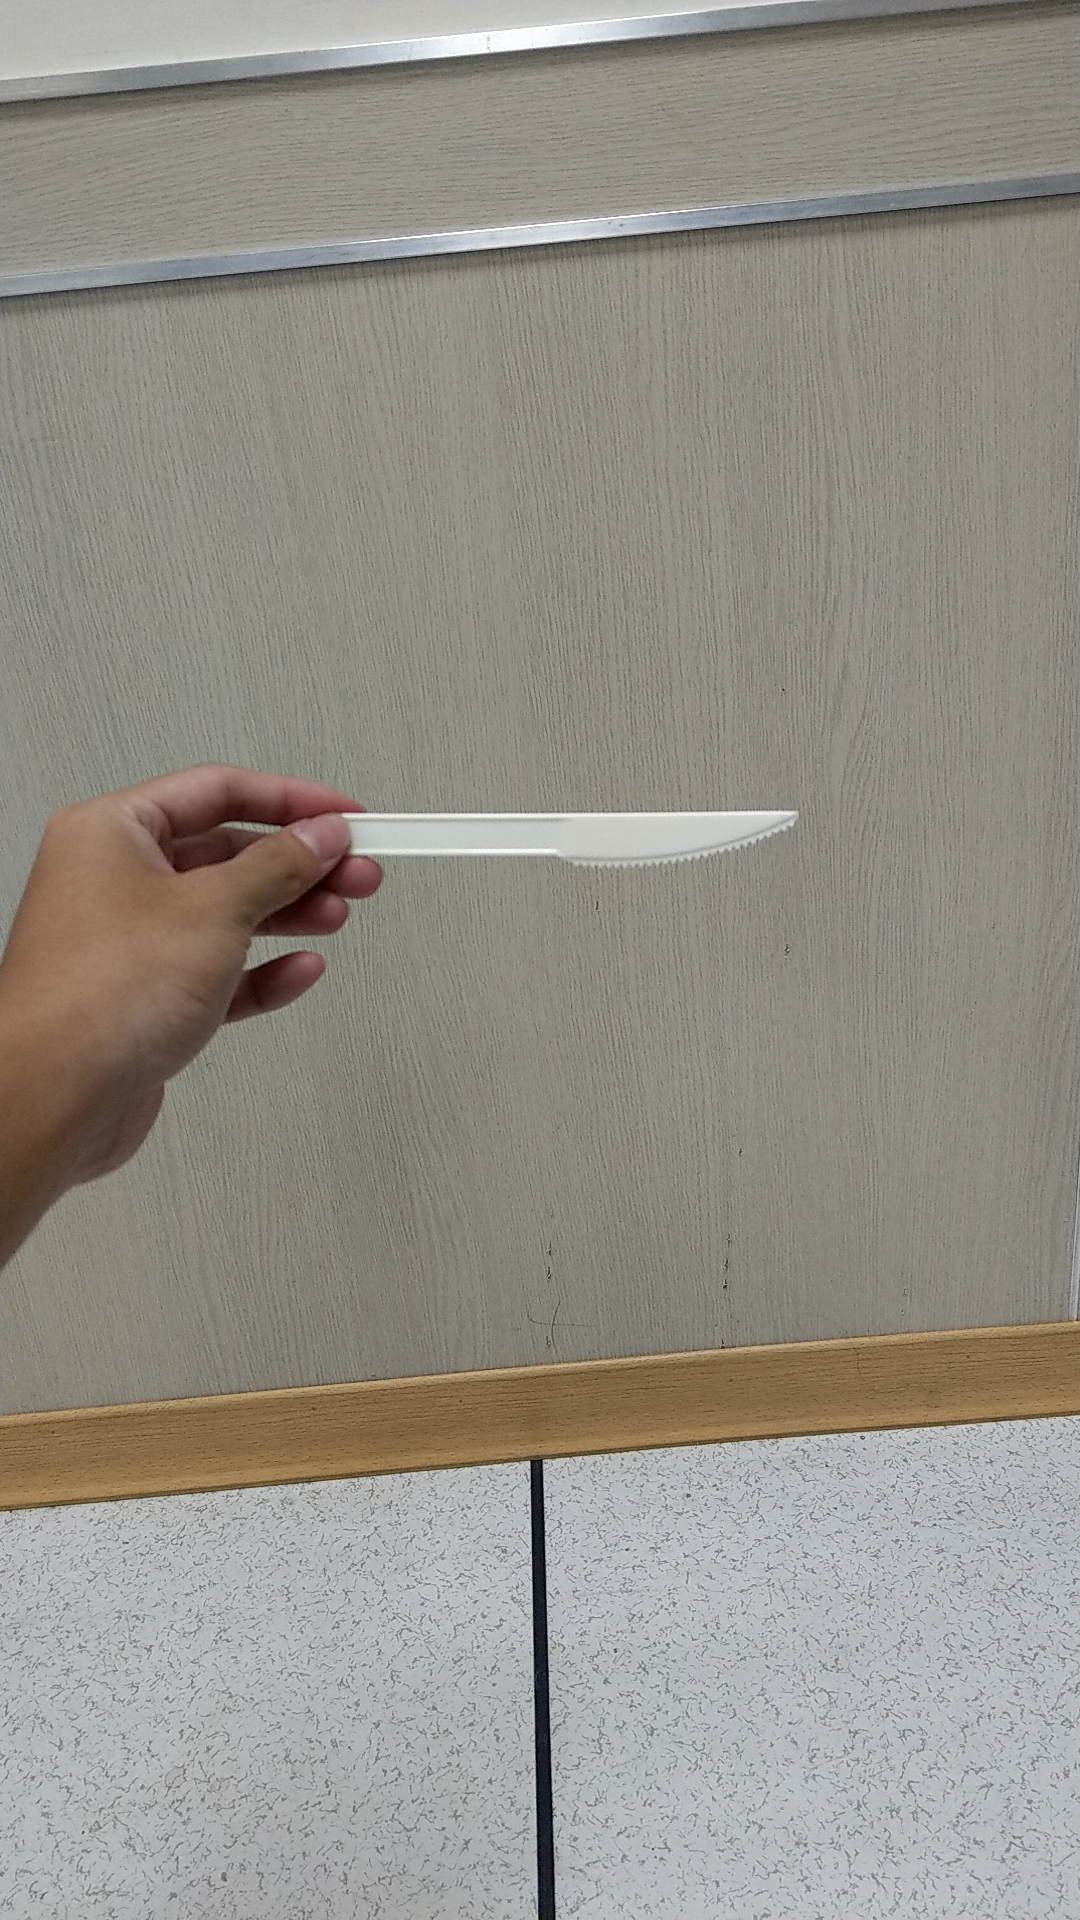knife: (347, 789, 808, 897)
